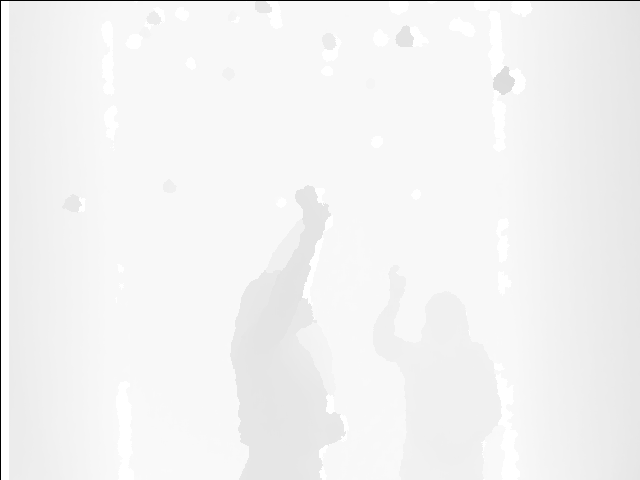hand: (294, 188, 331, 229), (388, 262, 410, 298)
